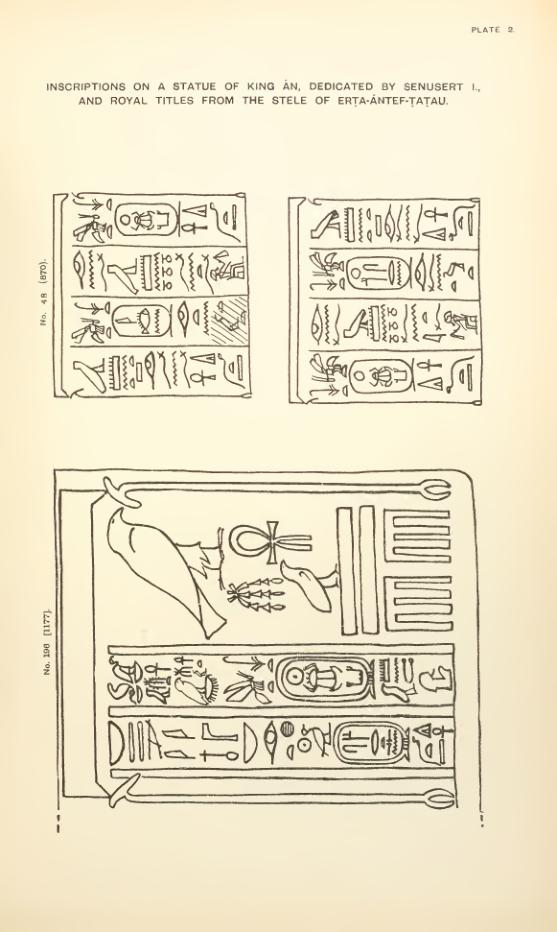circle: (274, 655, 380, 703), (331, 720, 413, 768), (344, 253, 414, 294), (114, 200, 183, 241), (348, 353, 417, 394), (112, 302, 175, 338)
